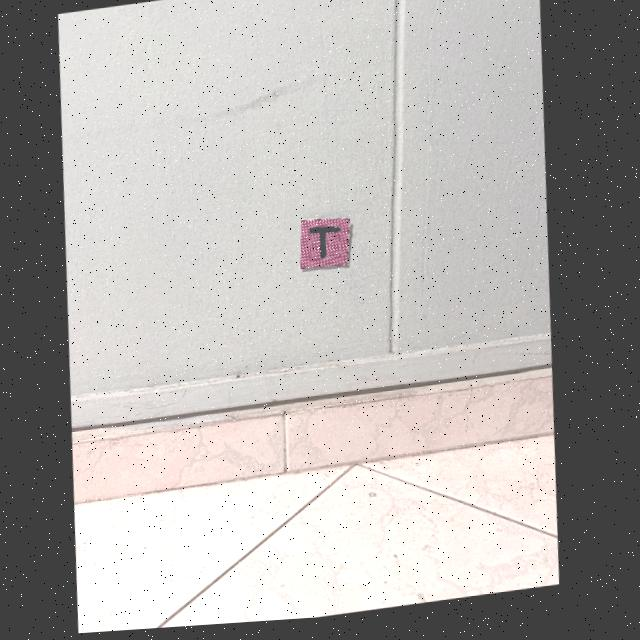T: (311, 231, 341, 264)
